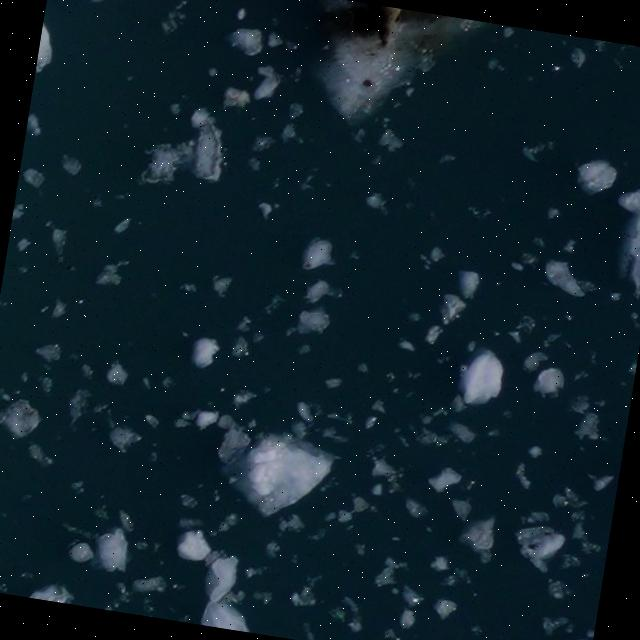seal: (363, 4, 400, 49)
